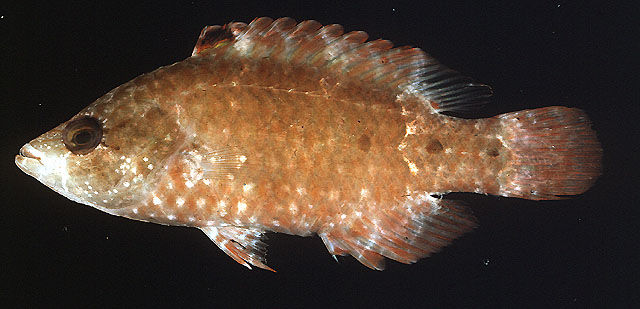fish: (16, 16, 602, 272)
